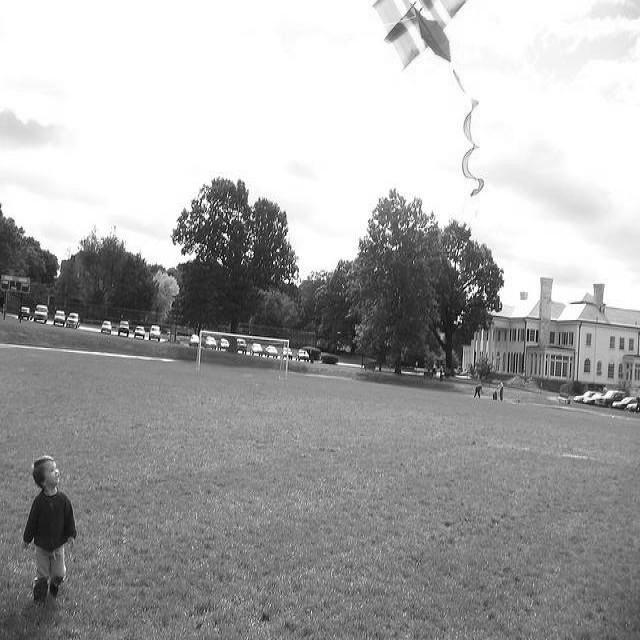vehicle: (594, 391, 628, 409), (612, 396, 640, 412), (572, 391, 600, 403), (33, 306, 49, 324), (34, 305, 48, 323), (149, 325, 161, 343), (250, 344, 264, 358), (54, 311, 66, 327), (296, 350, 310, 363), (264, 347, 278, 360), (203, 336, 216, 350), (236, 339, 247, 355), (218, 338, 230, 351), (101, 321, 112, 333), (283, 348, 293, 360)
